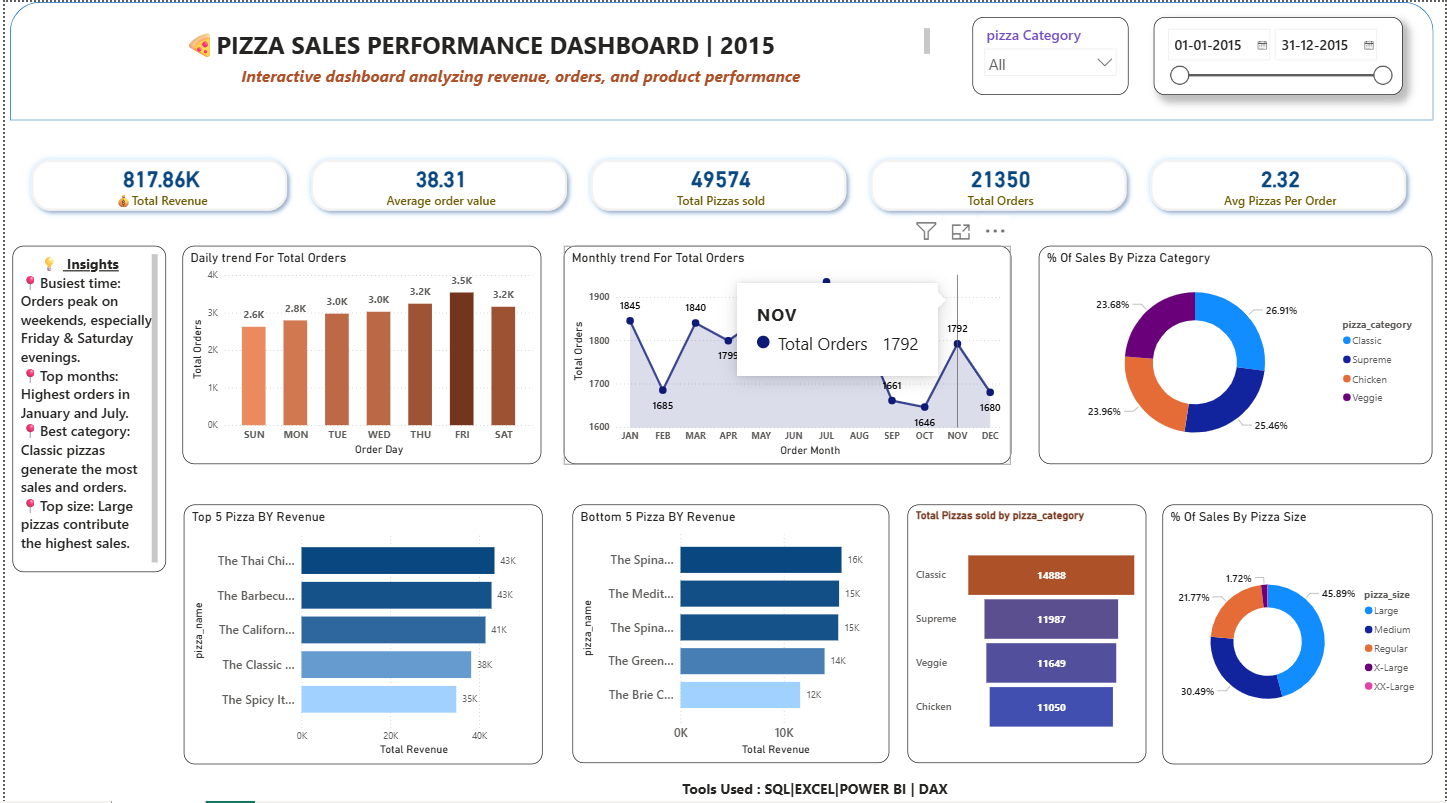

Layout of this report page (visuals, bound fields, positions):
{"tool":"powerbi","page":{"name":"Page 1","canvas":[1920,1080],"ordinal":0},"visuals":[{"type":"cardVisual","fields":{"Data":["pizza_sale.Total Revenue","pizza_sale.Average order value","pizza_sale.Total Pizzas sold","pizza_sale.Total Orders","pizza_sale.Avg Pizzas Per Order"]},"box":[0,174.4,1903.8,138.4],"z":0},{"type":"shape","box":[6,0,1898,158],"z":1000},{"type":"textbox","box":[33.3,30,1205,48.3],"z":2000},{"type":"textbox","box":[310,78.3,763.3,50],"z":3000},{"type":"columnChart","title":"Daily trend For Total Orders","fields":{"Category":["pizza_sale.Order Day"],"Y":["pizza_sale.Total Orders"]},"box":[237.3,325.4,478.2,291.2],"z":4000},{"type":"areaChart","title":"Monthly trend For Total Orders","fields":{"Y":["pizza_sale.Total Orders"],"Category":["pizza_sale.Order Month"]},"box":[744.3,325.4,596.9,291.2],"z":5000},{"type":"donutChart","title":"% Of Sales  By Pizza Category","fields":{"Category":["pizza_sale.pizza_category"],"Y":["pizza_sale.Total Revenue"]},"box":[1378.9,325.4,524.9,291.2],"z":6000},{"type":"donutChart","title":"% Of Sales  By Pizza Size","fields":{"Y":["pizza_sale.Total Revenue"],"Category":["pizza_sale.pizza_size"]},"box":[1544,670,360,346],"z":7000},{"type":"funnel","fields":{"Category":["pizza_sale.pizza_category"],"Y":["pizza_sale.Total Pizzas sold"]},"box":[1202.7,670.6,318.2,345.2],"z":8000},{"type":"textbox","box":[10,325,205,435],"z":9000},{"type":"slicer","fields":{"Values":["pizza_sale.pizza_category"]},"box":[1290,20,208,104],"z":10000},{"type":"barChart","title":"Top 5 Pizza BY Revenue","fields":{"Category":["pizza_sale.pizza_name"],"Y":["pizza_sale.Total Revenue"]},"box":[238,670,478,346],"z":11000},{"type":"slicer","fields":{"Values":["pizza_sale.order_date"]},"box":[1532,20,332,104],"z":12000},{"type":"barChart","title":"Bottom 5 Pizza BY Revenue","fields":{"Category":["pizza_sale.pizza_name"],"Y":["pizza_sale.Total Revenue"]},"box":[756.9,670.6,422.5,345.2],"z":13000},{"type":"textbox","box":[256.7,1031.7,1646.7,48.3],"z":14000}]}

Visuals, with their boxes in screenshot pixels (x1, y1, x2, y2), scaled from the page's 1920x1080 canvas onto the 1447x803 screenshot:
cardVisual - pizza_sale.Total Revenue x pizza_sale.Average order value: (x1=0, y1=130, x2=1435, y2=233)
shape: (x1=5, y1=0, x2=1435, y2=117)
textbox: (x1=25, y1=22, x2=933, y2=58)
textbox: (x1=234, y1=58, x2=809, y2=95)
"Daily trend For Total Orders" columnChart: (x1=179, y1=242, x2=539, y2=458)
"Monthly trend For Total Orders" areaChart: (x1=561, y1=242, x2=1011, y2=458)
"% Of Sales  By Pizza Category" donutChart: (x1=1039, y1=242, x2=1435, y2=458)
"% Of Sales  By Pizza Size" donutChart: (x1=1164, y1=498, x2=1435, y2=755)
funnel - pizza_sale.pizza_category x pizza_sale.Total Pizzas sold: (x1=906, y1=499, x2=1146, y2=755)
textbox: (x1=8, y1=242, x2=162, y2=565)
slicer - pizza_sale.pizza_category: (x1=972, y1=15, x2=1129, y2=92)
"Top 5 Pizza BY Revenue" barChart: (x1=179, y1=498, x2=540, y2=755)
slicer - pizza_sale.order_date: (x1=1155, y1=15, x2=1405, y2=92)
"Bottom 5 Pizza BY Revenue" barChart: (x1=570, y1=499, x2=889, y2=755)
textbox: (x1=193, y1=767, x2=1434, y2=802)
